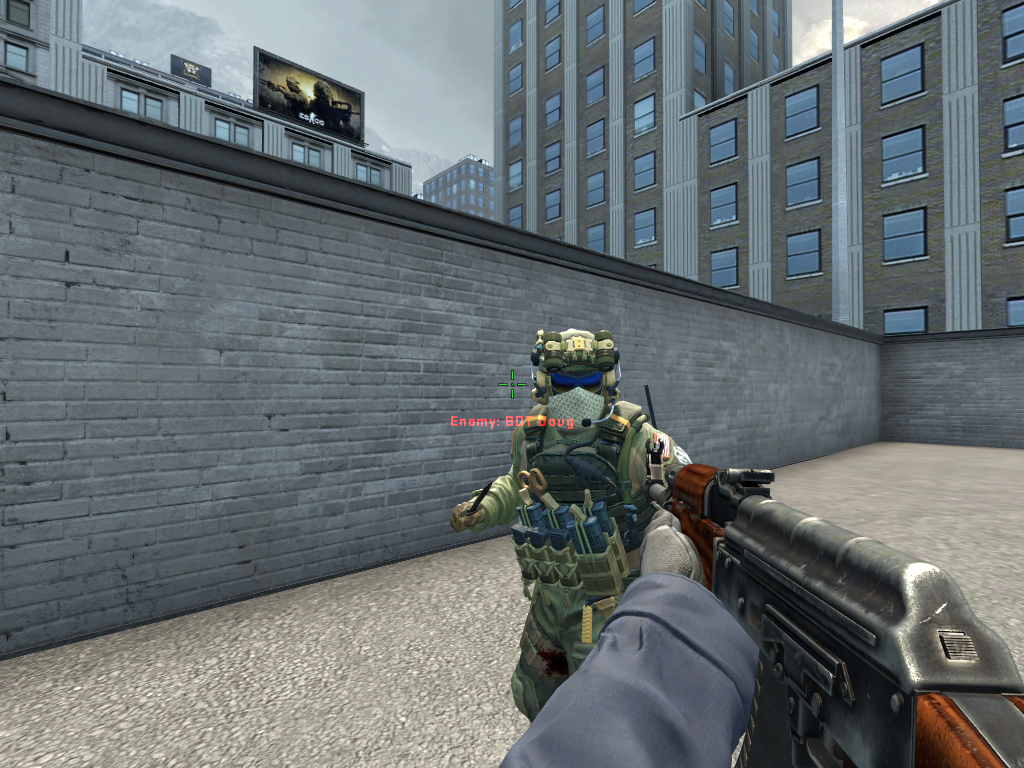ct head: (544, 346, 608, 431)
